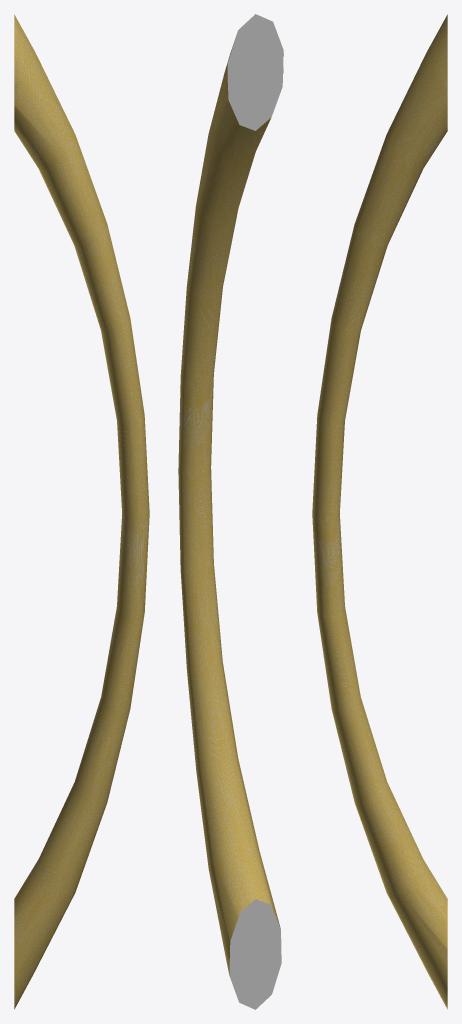
File: original-62.obj
The picture shows the model from 3 angles, left to right: view 1: azimuth 90°, elevation 25°; view 2: azimuth 210°, elevation 25°; view 3: azimuth 270°, elevation 25°; orthographic projection.
Parts seen in each view (by area): view 1: _3021_10_1/_3021_10/mesh50/mesh50-geometry#mesh50-geometry; view 2: _3021_10_1/_3021_10/mesh50/mesh50-geometry#mesh50-geometry; view 3: _3021_10_1/_3021_10/mesh50/mesh50-geometry#mesh50-geometry.
Part boxes in pixels (x1,y1,x2,y2): _3021_10_1/_3021_10/mesh50/mesh50-geometry#mesh50-geometry: (14,14,149,1009); _3021_10_1/_3021_10/mesh50/mesh50-geometry#mesh50-geometry: (178,14,283,1009); _3021_10_1/_3021_10/mesh50/mesh50-geometry#mesh50-geometry: (312,14,447,1009).
Bounding box in the file's own units: 0.0246 × 0.4178 × 0.0515.
